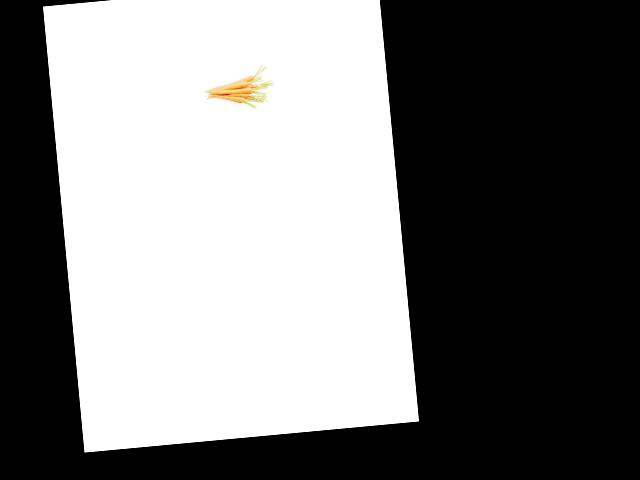carrot: (209, 88, 247, 108)
